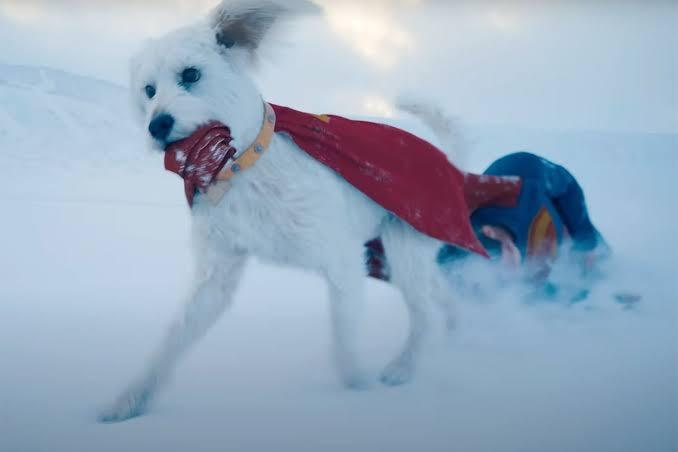adult_dog: (97, 3, 459, 421)
